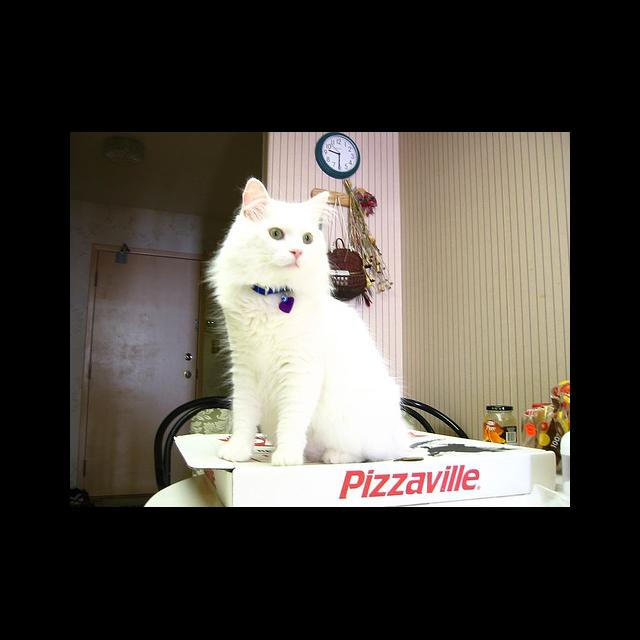animals: (244, 178, 326, 258)
